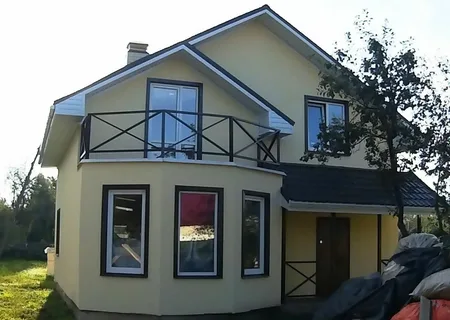private_hause: (51, 12, 406, 277)
